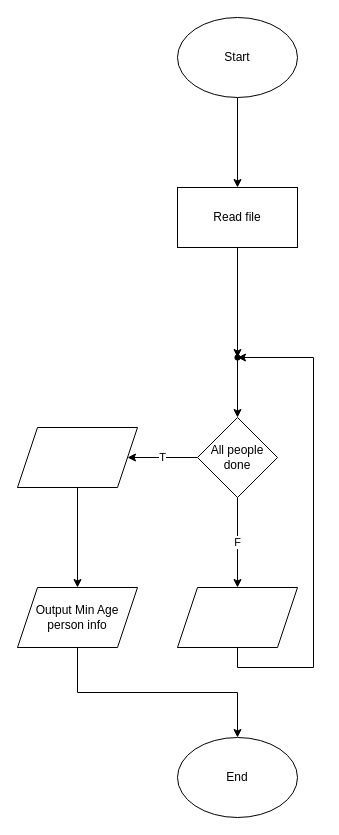
Image size: 339x835. Some labels were removed from this diagram. Here are the shapes that lost their labels. From the top down, the centre of each, then its label:
the point at 77,457: Output Max Age person info
the point at 237,617: Output Name Age MonthsAge
